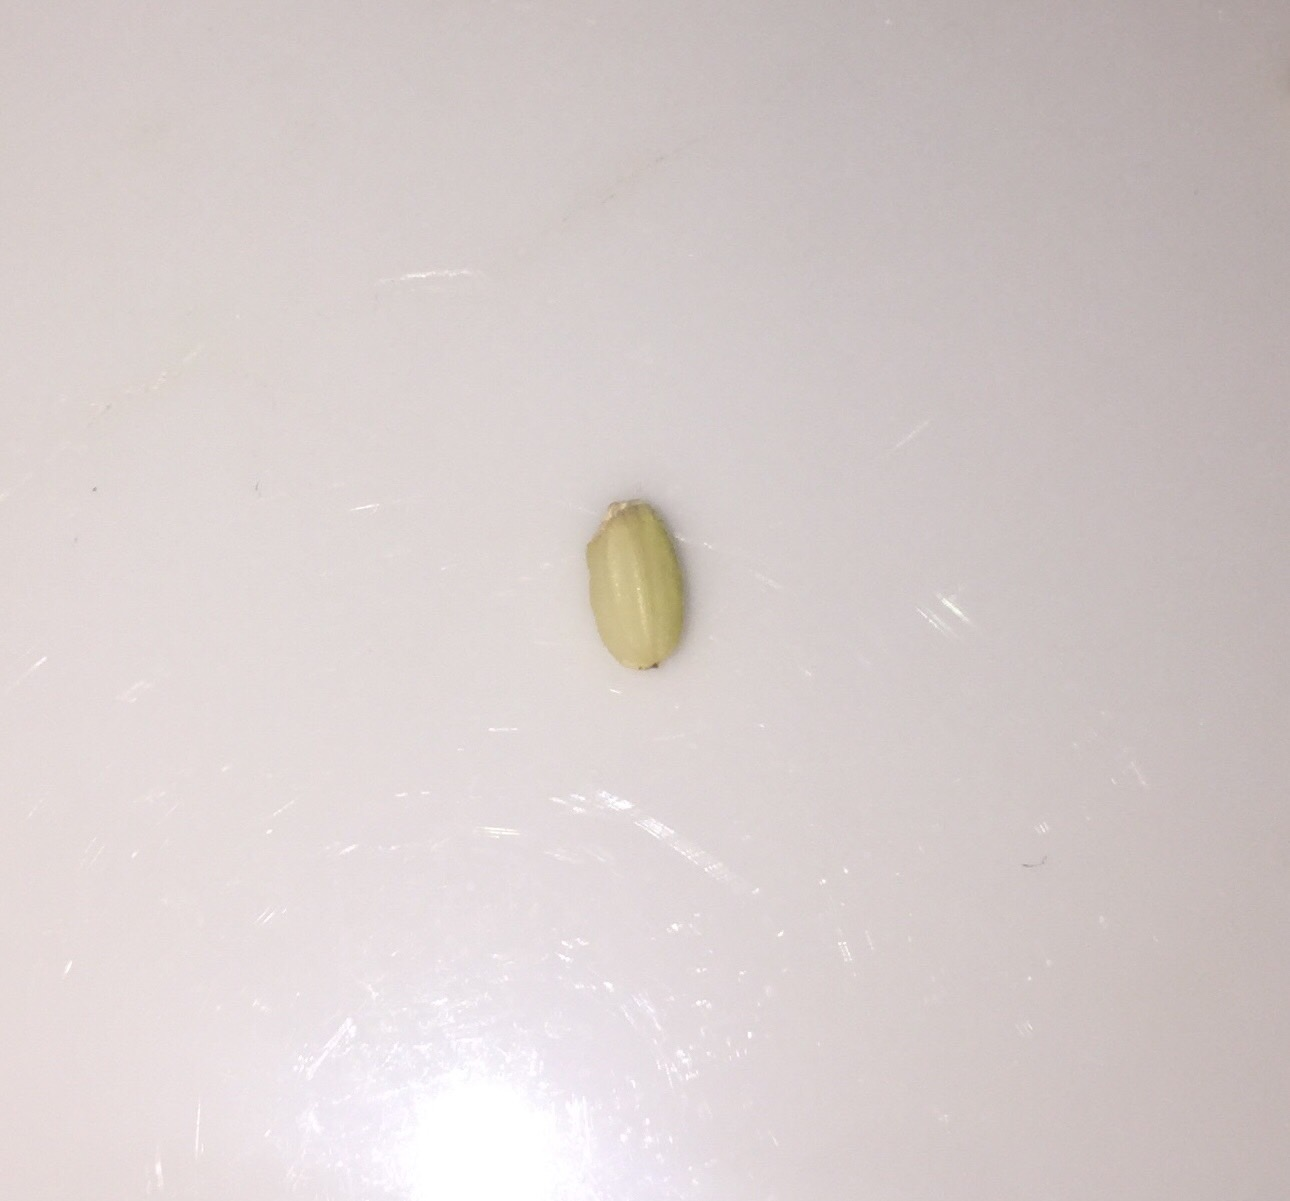Gao Lut Bac: (563, 473, 700, 690)
